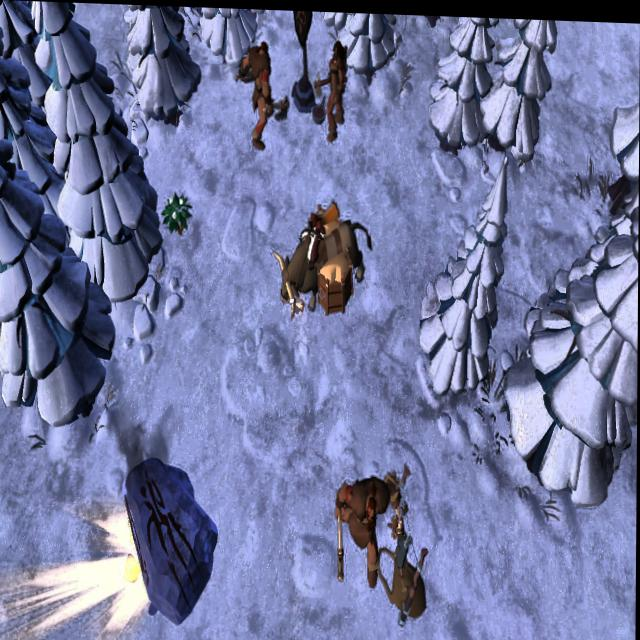enemy_factionKeeper: (240, 42, 277, 152), (317, 31, 352, 137)
fiber_t3: (161, 183, 193, 240)
